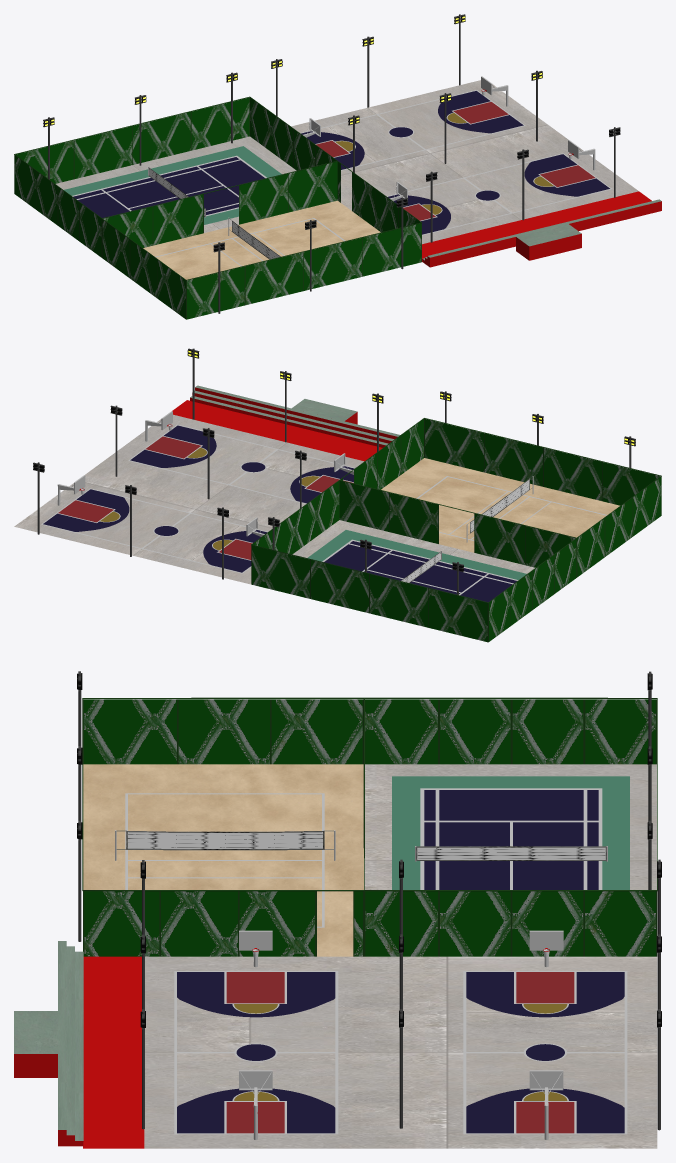
The model's file is sports1.fbx.
The picture shows the model from 3 angles, top to bottom: view 1: azimuth 30°, elevation 25°; view 2: azimuth 150°, elevation 25°; view 3: azimuth 270°, elevation 25°; orthographic projection. The views are drawn at different scales.
Parts seen in each view (by area): view 1: Plane, Plane.001, Stairs, Cube.003, Plane.002, Cylinder.007, Cylinder.010, Cylinder.008, Cylinder.009, Cylinder.005; view 2: Plane, Plane.001, Stairs, Plane.002, Cylinder.007, Cube.003, Cylinder.008, Cylinder.005, Cylinder.009, Cylinder.010; view 3: Plane, Plane.001, Stairs, Cylinder.005, Plane.002, Cube.003, Cylinder.006, Cylinder.007, Cylinder.010, Cylinder.004, Cylinder.009, Cylinder.008 (+3 smaller).
Part boxes in pixels (box(x1,y1,x2,y2)): Plane: box(56, 80, 651, 279); Plane.001: box(14, 97, 421, 319); Stairs: box(422, 199, 661, 267); Cube.003: box(516, 224, 581, 260); Plane.002: box(14, 96, 421, 280); Cylinder.007: box(271, 14, 542, 172); Cylinder.010: box(213, 197, 408, 313); Cylinder.008: box(426, 127, 620, 242); Cylinder.009: box(43, 72, 237, 179); Cylinder.005: box(228, 217, 280, 259); Plane: box(14, 400, 619, 602); Plane.001: box(251, 418, 661, 642); Stairs: box(190, 385, 399, 447); Plane.002: box(251, 418, 661, 602); Cylinder.007: box(33, 405, 306, 579); Cube.003: box(292, 399, 357, 424); Cylinder.008: box(187, 348, 383, 451); Cylinder.005: box(466, 476, 533, 542); Cylinder.009: box(268, 517, 463, 594); Cylinder.010: box(440, 391, 635, 467); Plane: box(83, 764, 657, 1148); Plane.001: box(83, 699, 657, 956); Stairs: box(58, 941, 83, 1146); Cylinder.005: box(115, 830, 335, 860); Plane.002: box(82, 697, 657, 891); Cube.003: box(14, 1011, 58, 1077); Cylinder.006: box(415, 846, 607, 861); Cylinder.007: box(399, 859, 661, 1130); Cylinder.010: box(77, 671, 82, 941); Cylinder.004: box(529, 1070, 563, 1139); Cylinder.009: box(647, 671, 652, 889); Cylinder.008: box(140, 860, 145, 1129).
Bounding box in the file's own units: 6952 × 4951 × 1083.
